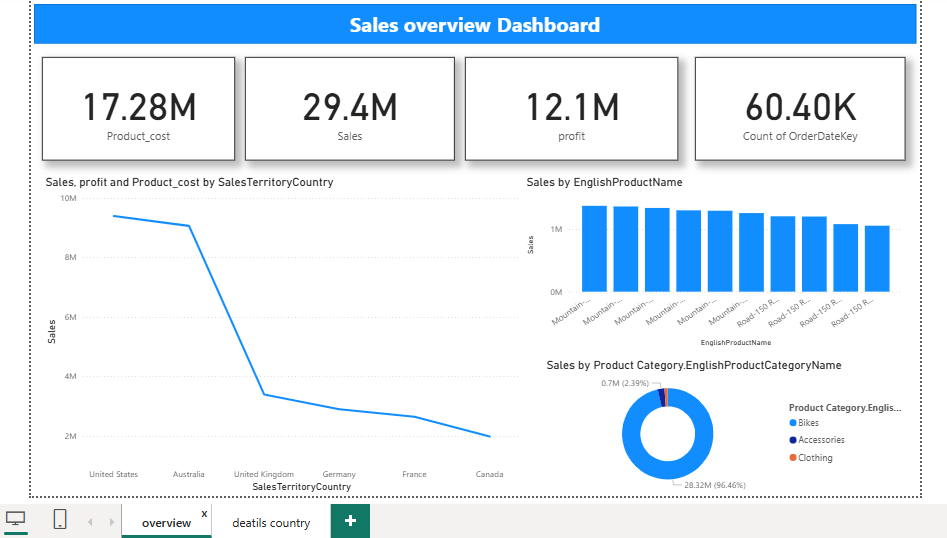

Layout of this report page (visuals, bound fields, positions):
{"tool":"powerbi","page":{"name":"overview","canvas":[1280,720],"ordinal":0},"visuals":[{"type":"shape","box":[3.7,12.2,1270.5,57.5],"z":0},{"type":"card","fields":{"Values":["Measures_table.Product_cost"]},"box":[15.9,88,277.6,149.2],"z":1000},{"type":"card","fields":{"Values":["Measures_table.Sales"]},"box":[308.2,88,302,149.2],"z":2000},{"type":"card","fields":{"Values":["Measures_table.profit"]},"box":[624.9,88,306.9,149.2],"z":3000},{"type":"card","fields":{"Values":["CountNonNull(sales_full.OrderDateKey)"]},"box":[956.3,88,303.3,149.2],"z":4000},{"type":"columnChart","fields":{"Category":["products_new.EnglishProductName"],"Y":["Measures_table.Sales"]},"box":[708.4,258.4,551.6,252],"z":5000},{"type":"donutChart","fields":{"Category":["products_new.Product Category.EnglishProductCategoryName"],"Y":["Measures_table.Sales"]},"box":[736.7,520.7,523.3,199.3],"z":6000},{"type":"lineChart","fields":{"Category":["Sales_Territory.SalesTerritoryCountry"],"Y":["Measures_table.Sales"]},"box":[15.4,258.4,693,461.6],"z":7000}]}

Visuals, with their boxes in screenshot pixels (x1, y1, x2, y2):
shape: x1=35, y1=1, x2=929, y2=42
card - Measures_table.Product_cost: x1=43, y1=55, x2=239, y2=160
card - Measures_table.Sales: x1=249, y1=55, x2=461, y2=160
card - Measures_table.profit: x1=472, y1=55, x2=688, y2=160
card - CountNonNull(sales_full.OrderDateKey): x1=705, y1=55, x2=919, y2=160
columnChart - products_new.EnglishProductName x Measures_table.Sales: x1=531, y1=174, x2=919, y2=352
donutChart - products_new.Product Category.EnglishProductCategoryName x Measures_table.Sales: x1=551, y1=359, x2=919, y2=499
lineChart - Sales_Territory.SalesTerritoryCountry x Measures_table.Sales: x1=43, y1=174, x2=531, y2=499
